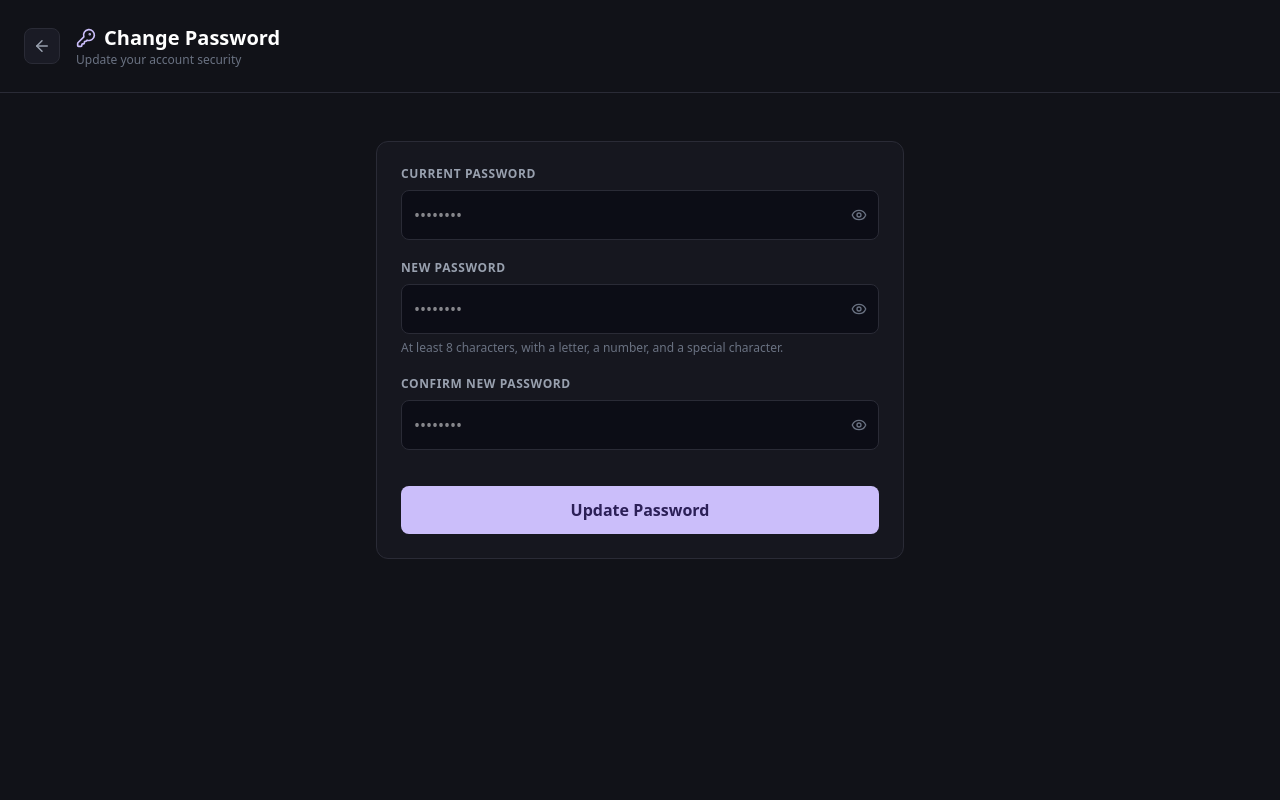
Scenario: PasswordUpdatePage (user profile) › shows the server's error message on failure
Type "WrongPass1!" into the password field with placeholder "••••••••" below "Current Password". click: (640, 215)
box: [401,190,879,240]
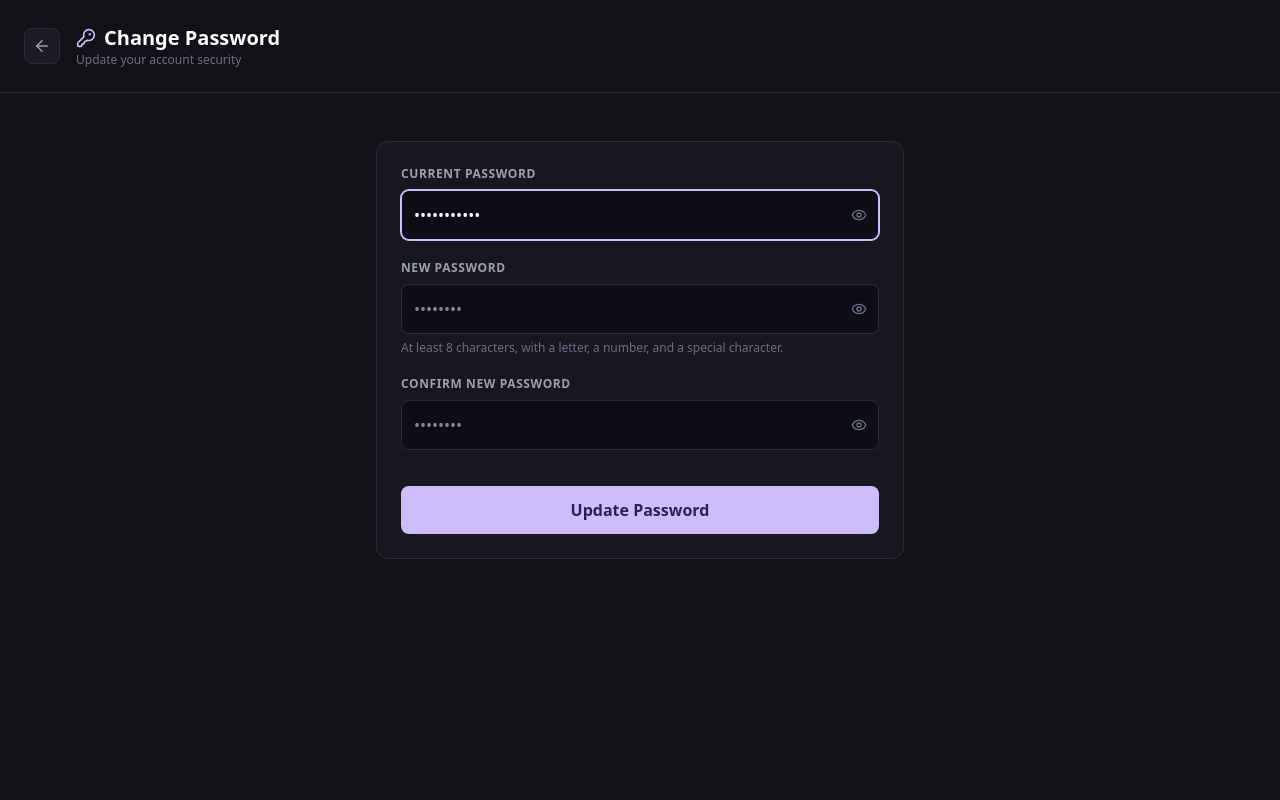
Type "NewPass1!" into the 1st password field with placeholder "••••••••". click: (640, 309)
box: [401,284,879,334]
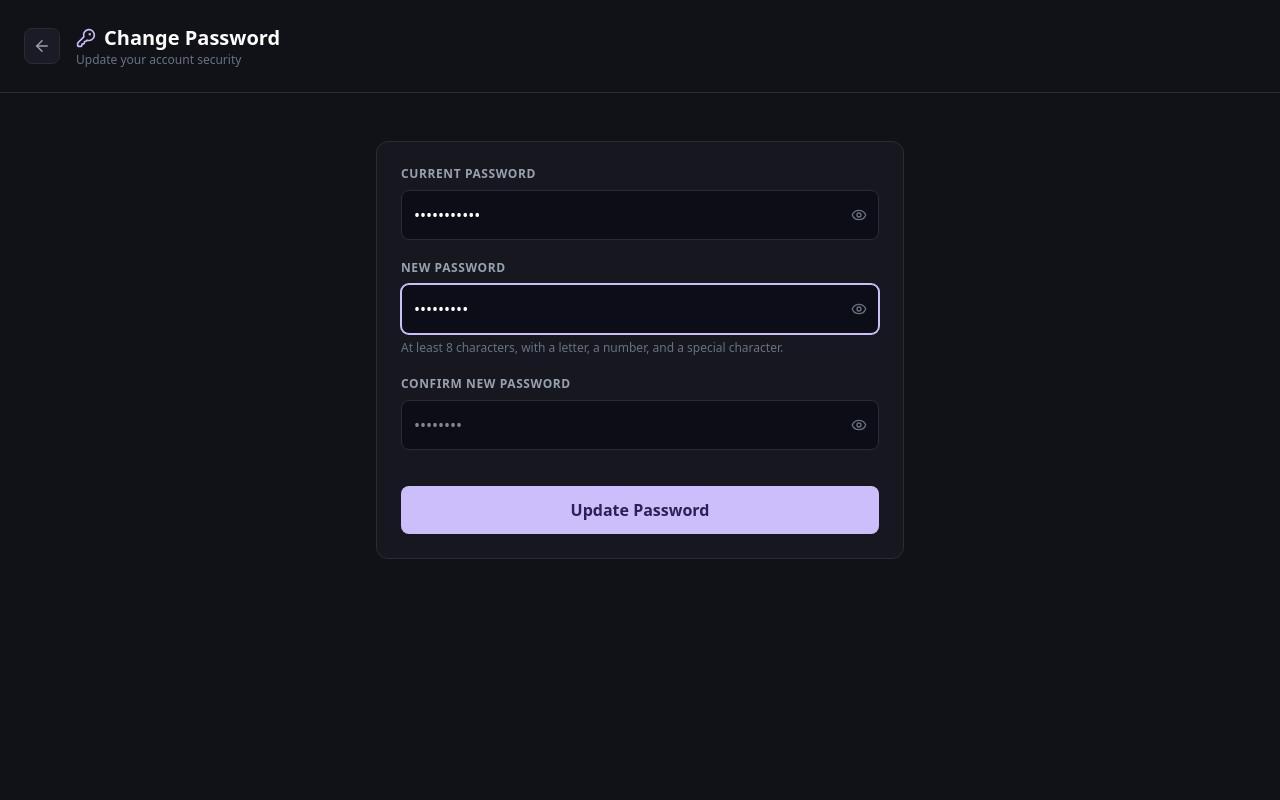
Type "NewPass1!" into the password field with placeholder "••••••••". click: (640, 425)
box: [401,400,879,450]
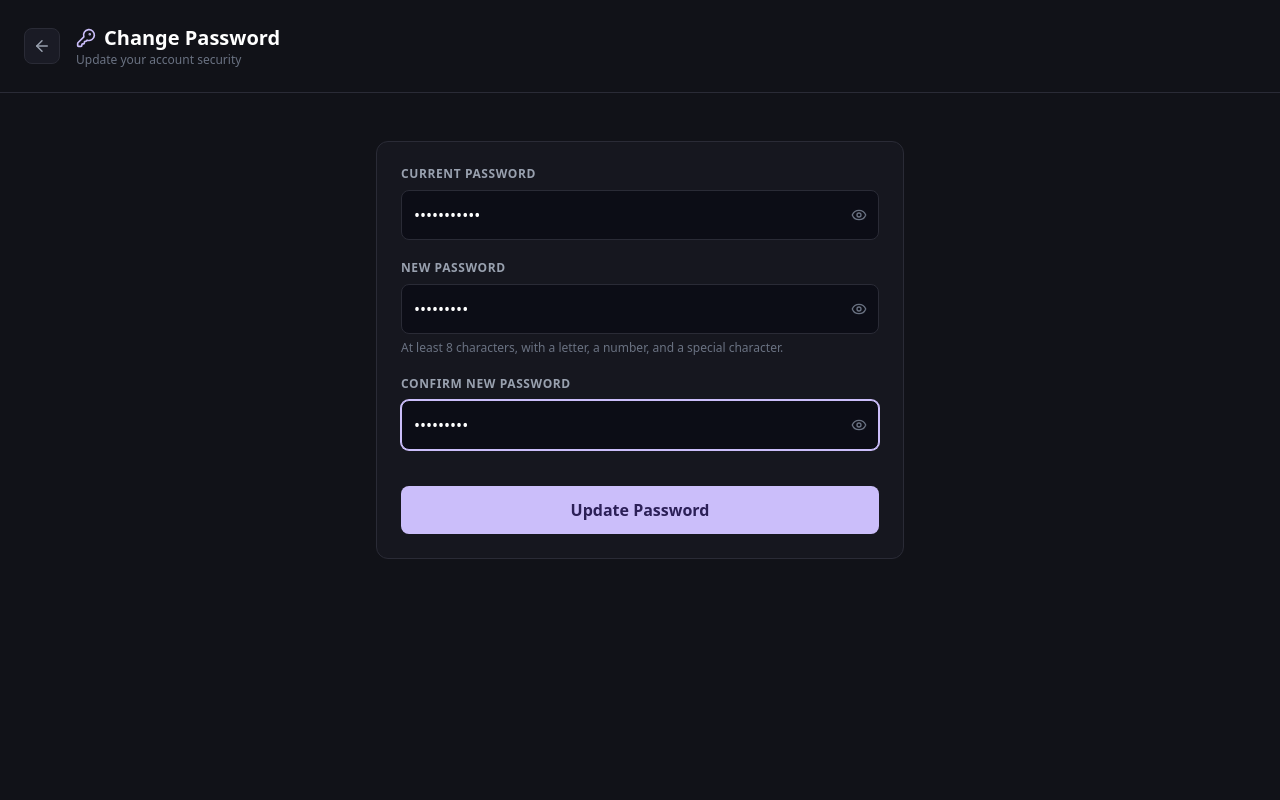
Click the button "Update Password". click: (640, 510)
box: [401,486,879,534]
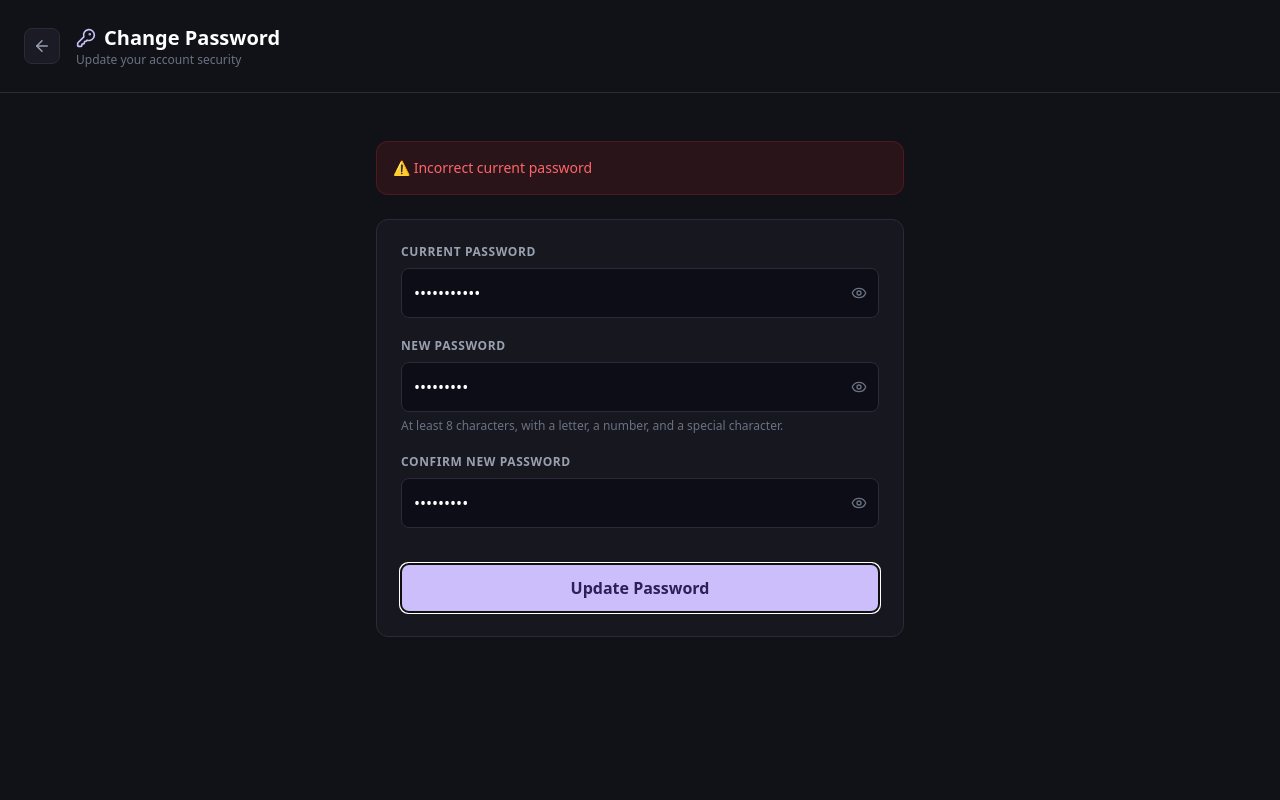
Now the text "⚠ Incorrect current password" is shown, box [376,141,904,195]
